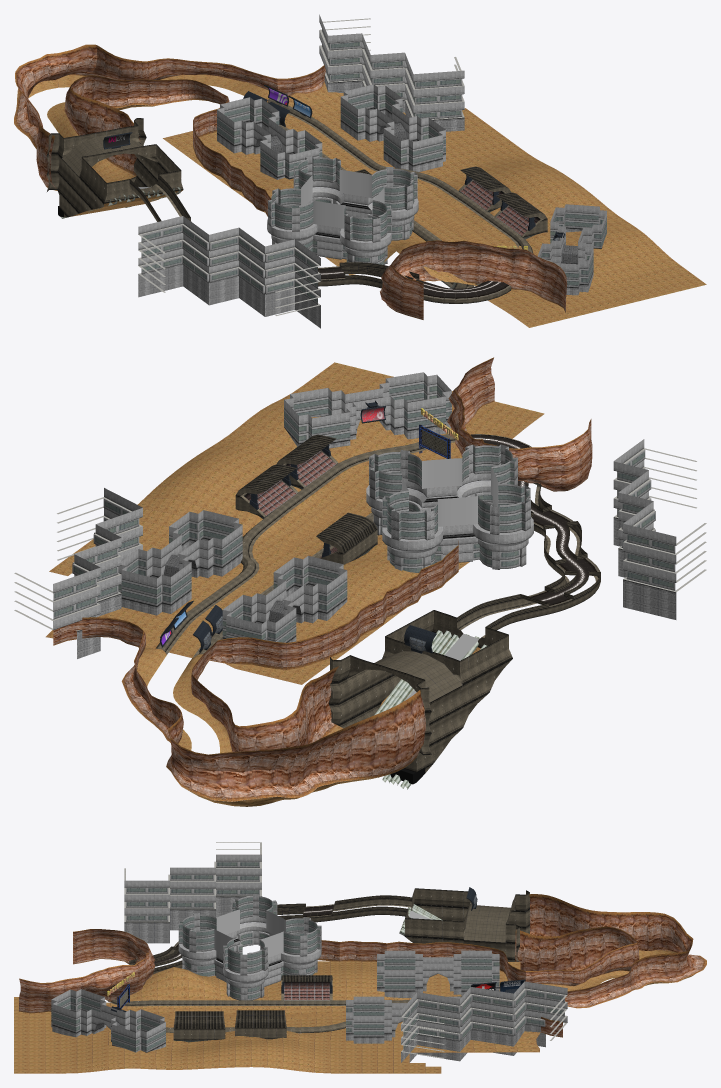
The model's file is UTExampleScenery.fbx.
3 views of the same model, one above another, from view 1: azimuth 30°, elevation 25°; view 2: azimuth 150°, elevation 25°; view 3: azimuth 270°, elevation 25° (orthographic). The views are drawn at different scales.
Visible parts, largest first — view 1: Terrain, Building_2, Building_1, Tunnel, Jump_Walls, Building_3, Building_5, Building_4, Building_6, StartGrid_Walls, Walls, AnimatedAds (+4 smaller); view 2: Terrain, Building_1, Jump_Walls, Building_2, Building_5, Building_3, Building_6, Building_4, Tunnel, Walls, StartGrid_Walls, AnimatedAds (+6 smaller); view 3: Terrain, Building_3, Building_1, Building_2, Jump_Walls, Tunnel, Building_4, Building_6, Walls, Building_5, StartGrid_Walls, Crowds_2 (+4 smaller).
Boxes of the visible parts, left/top/right/bottom form: Terrain: left=14, top=44, right=706, bottom=327; Building_2: left=138, top=216, right=320, bottom=328; Building_1: left=267, top=156, right=418, bottom=265; Tunnel: left=380, top=240, right=567, bottom=319; Jump_Walls: left=46, top=118, right=183, bottom=217; Building_3: left=319, top=14, right=464, bottom=131; Building_5: left=340, top=84, right=445, bottom=171; Building_4: left=217, top=97, right=322, bottom=179; Building_6: left=537, top=204, right=606, bottom=295; StartGrid_Walls: left=267, top=99, right=533, bottom=288; Walls: left=129, top=174, right=419, bottom=288; AnimatedAds: left=301, top=170, right=384, bottom=228; Terrain: left=46, top=362, right=544, bottom=806; Building_1: left=366, top=444, right=533, bottom=572; Jump_Walls: left=328, top=610, right=512, bottom=784; Building_2: left=613, top=439, right=706, bottom=619; Building_5: left=118, top=510, right=242, bottom=615; Building_3: left=14, top=488, right=142, bottom=658; Building_6: left=284, top=372, right=451, bottom=448; Building_4: left=222, top=555, right=347, bottom=642; Tunnel: left=447, top=357, right=592, bottom=491; Walls: left=457, top=481, right=600, bottom=637; StartGrid_Walls: left=156, top=434, right=455, bottom=657; AnimatedAds: left=402, top=458, right=498, bottom=526; Terrain: left=14, top=894, right=706, bottom=1073; Building_3: left=401, top=981, right=567, bottom=1062; Building_1: left=178, top=894, right=321, bottom=1000; Building_2: left=124, top=842, right=261, bottom=943; Jump_Walls: left=404, top=888, right=529, bottom=961; Tunnel: left=19, top=929, right=154, bottom=1013; Building_4: left=377, top=950, right=499, bottom=997; Building_6: left=51, top=989, right=165, bottom=1052; Walls: left=129, top=895, right=412, bottom=974; Building_5: left=346, top=996, right=460, bottom=1043; StartGrid_Walls: left=109, top=996, right=462, bottom=1033; Crowds_2: left=173, top=1011, right=225, bottom=1042.
Bounding box in the file's own units: 114 × 31.06 × 181.
